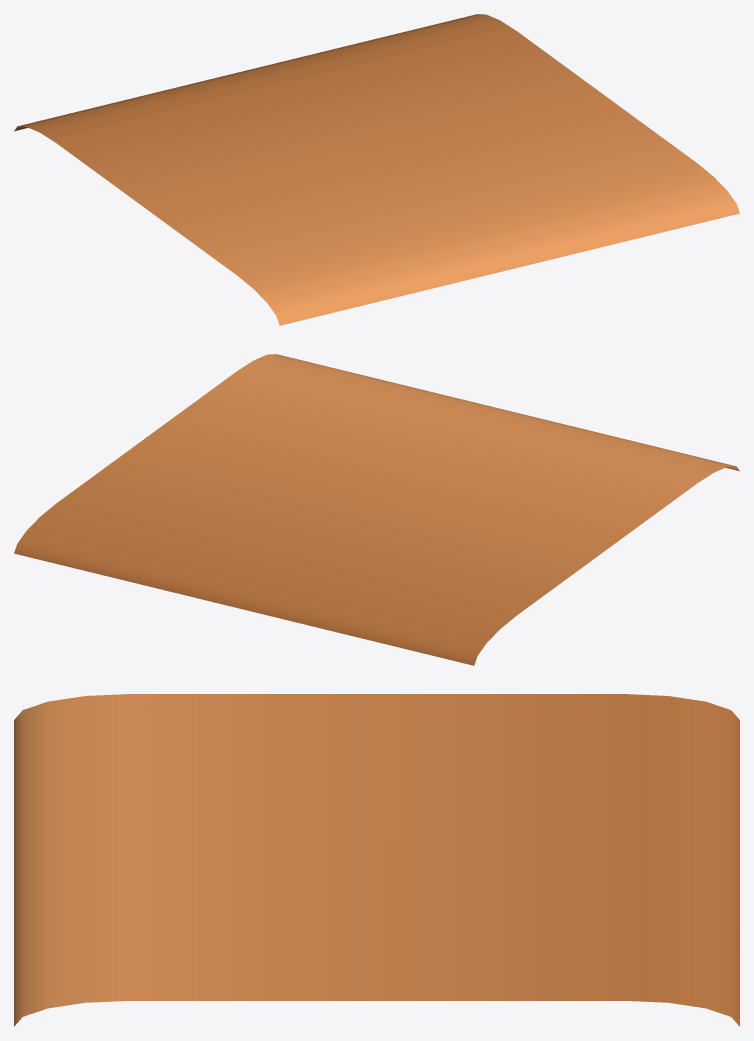
Rendered from rounded_plank_tile.glb.
The picture shows the model from 3 angles, top to bottom: view 1: azimuth 30°, elevation 25°; view 2: azimuth 150°, elevation 25°; view 3: azimuth 270°, elevation 25°; orthographic projection. The views are drawn at different scales.
Visible parts, largest first — view 1: rounded_plank; view 2: rounded_plank; view 3: rounded_plank.
Part boxes in pixels (<box>): rounded_plank: <box>14,14,739,325</box>; rounded_plank: <box>14,354,739,665</box>; rounded_plank: <box>14,694,739,1026</box>.
Size of the model in its own units: 0.8 by 0.0318 by 0.8.
Materials: 1 (1 with a texture image).
